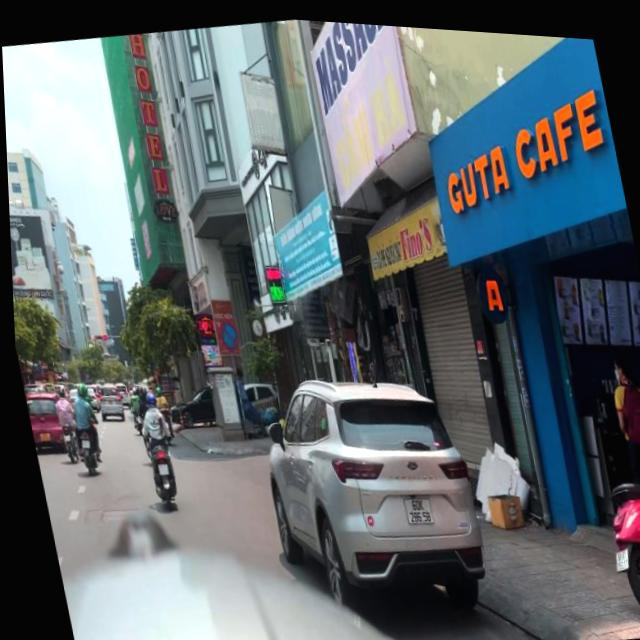Cam do xe: (214, 314, 239, 352)
